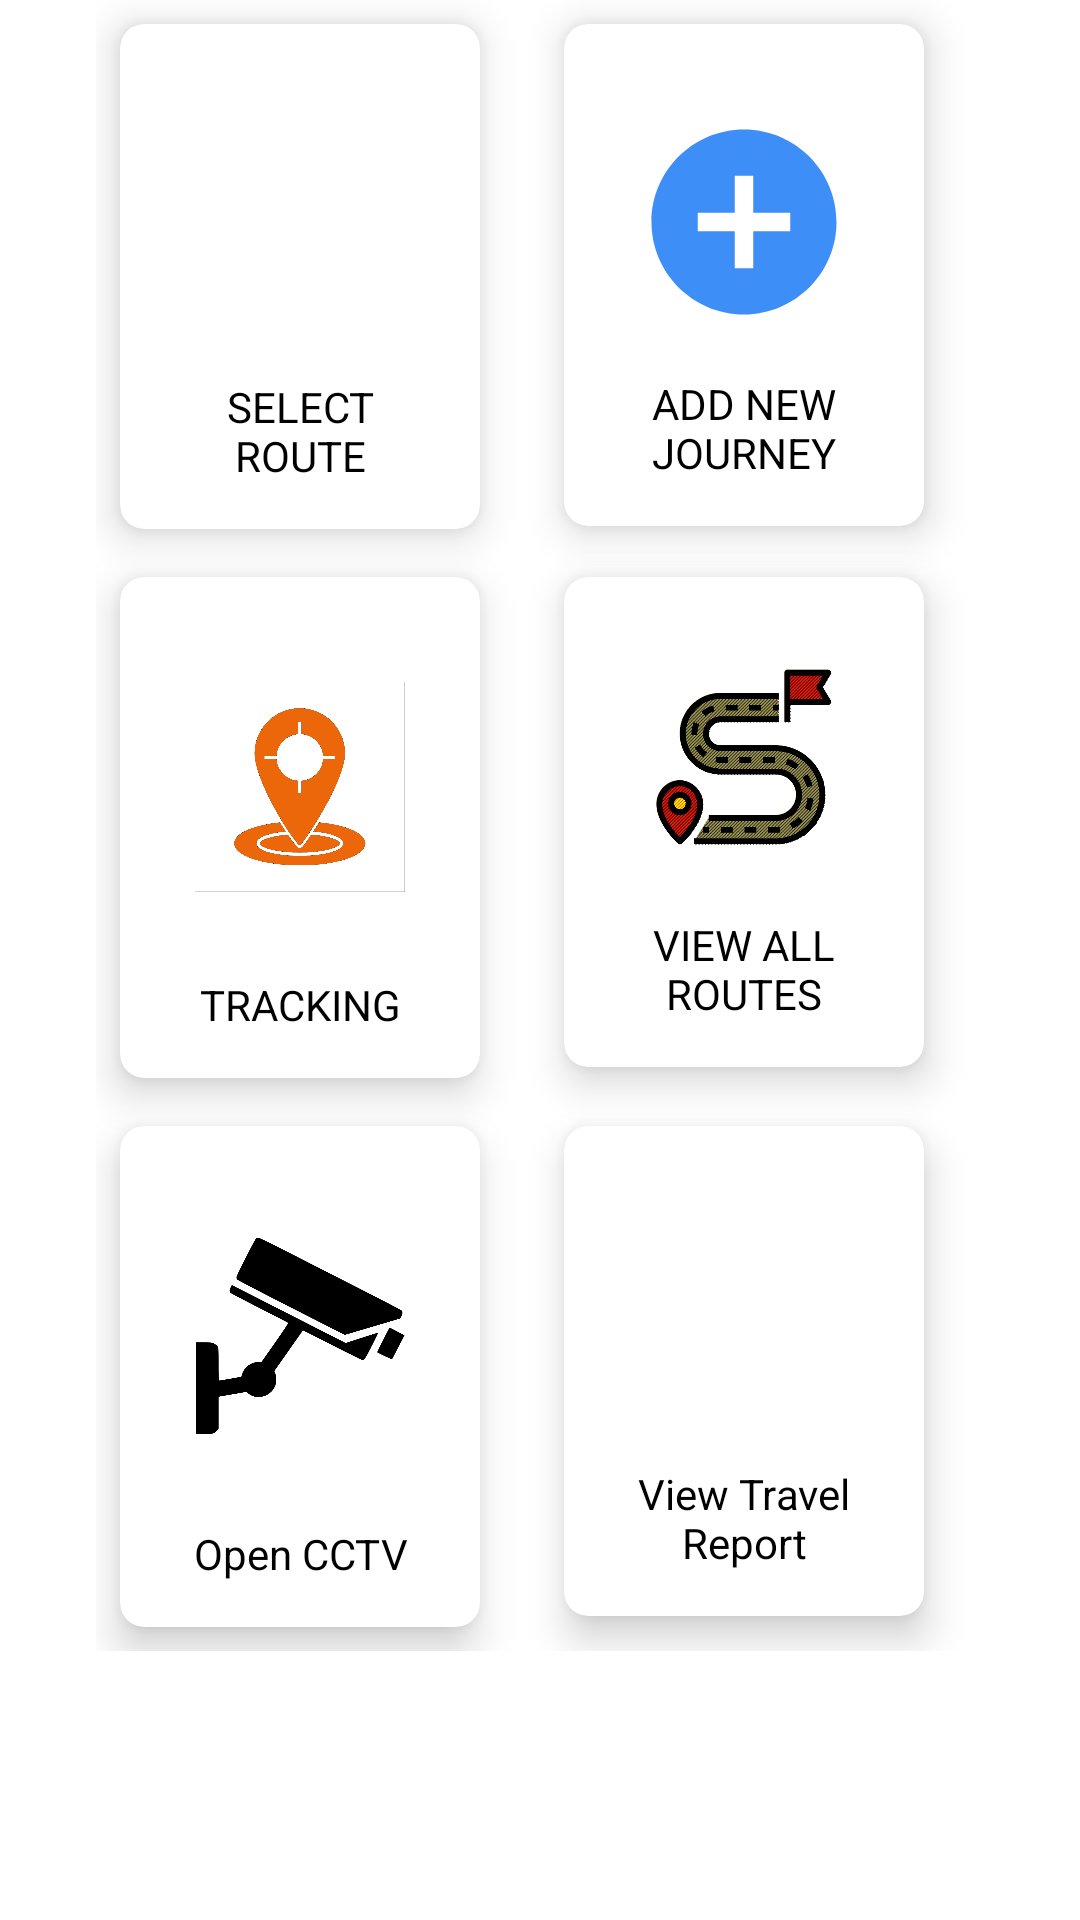

Screen size 1080x1920. Icon name, then its center in pixels as [x,y]:
add circle: [744,222]
viewroute: [744,757]
